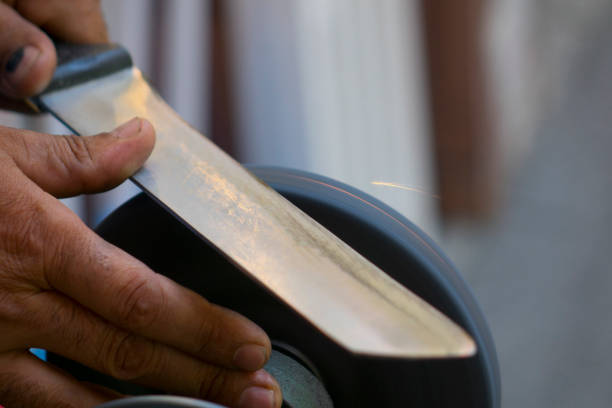knife: (33, 47, 477, 359)
